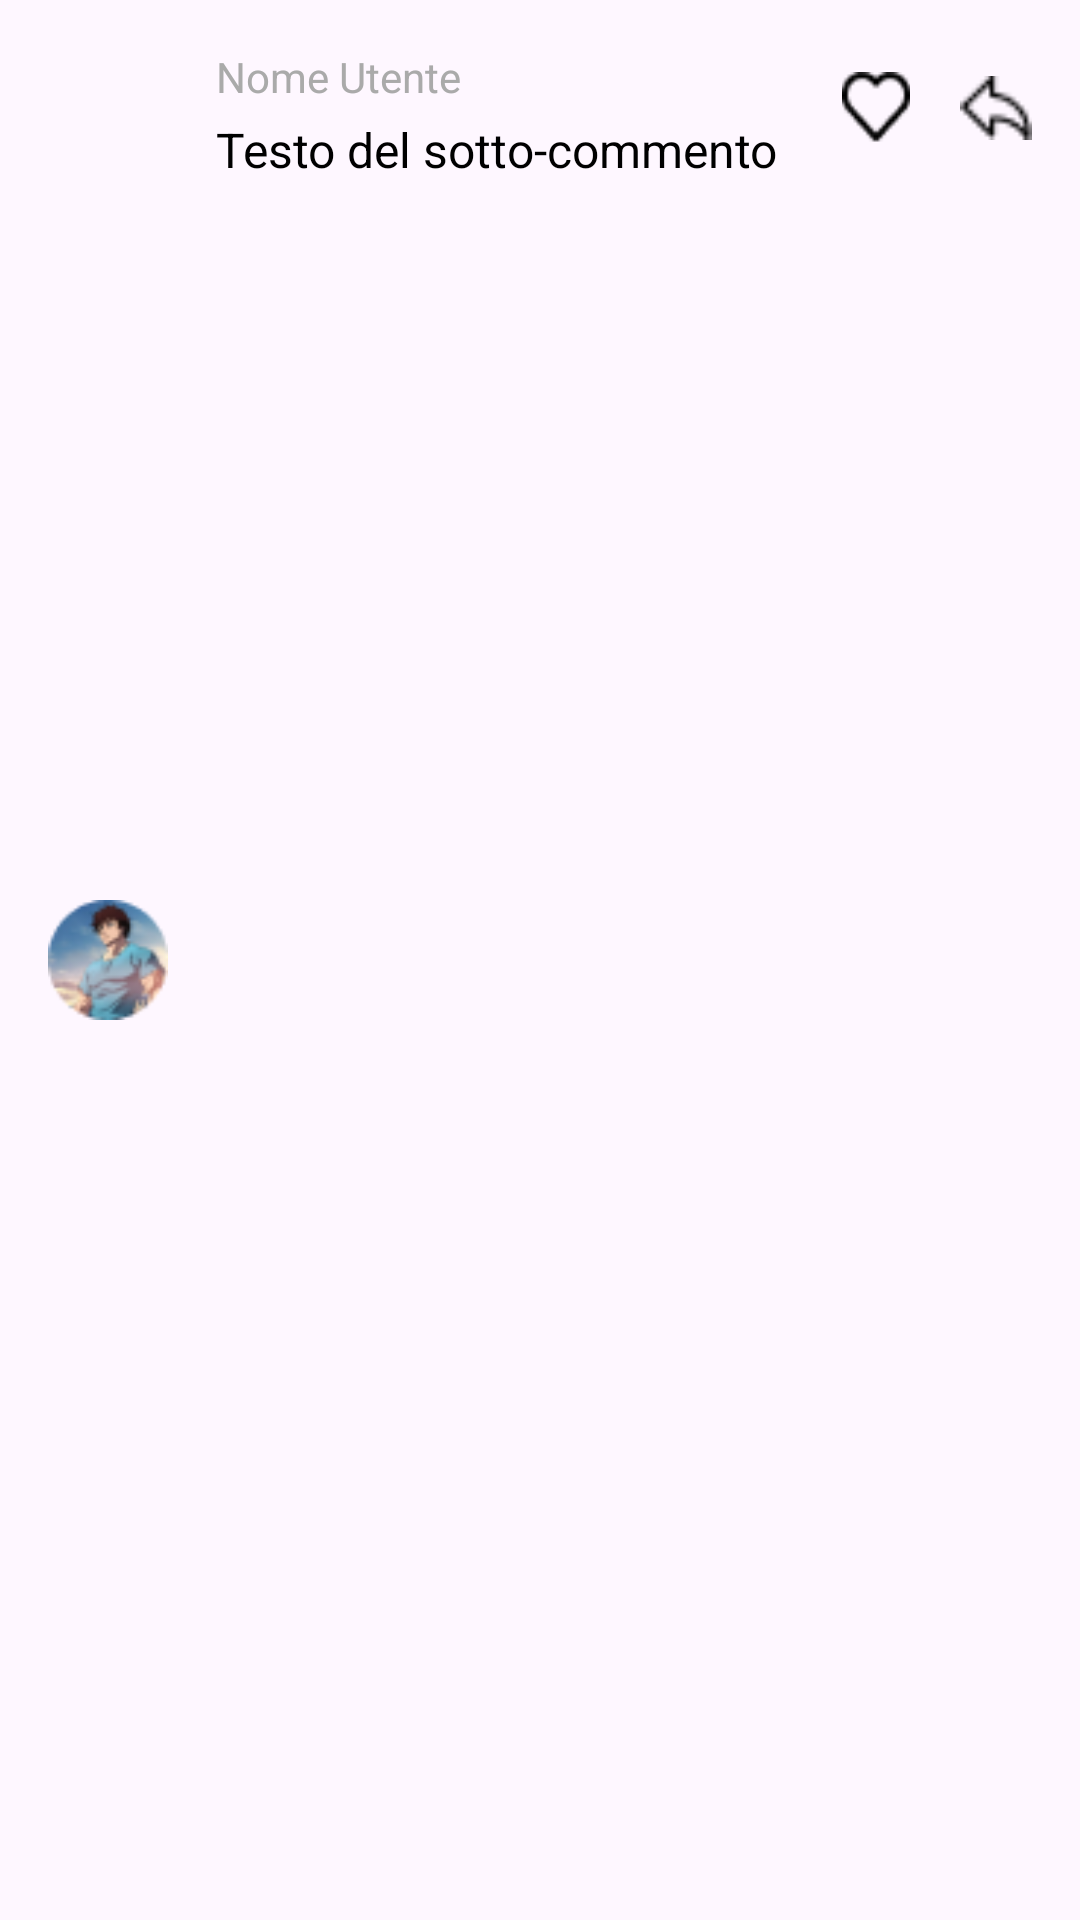

Screen size 1080×1920. Icon name, then its center in pixels as point (x, y):
like: point (876, 107)
reply: point (996, 108)
